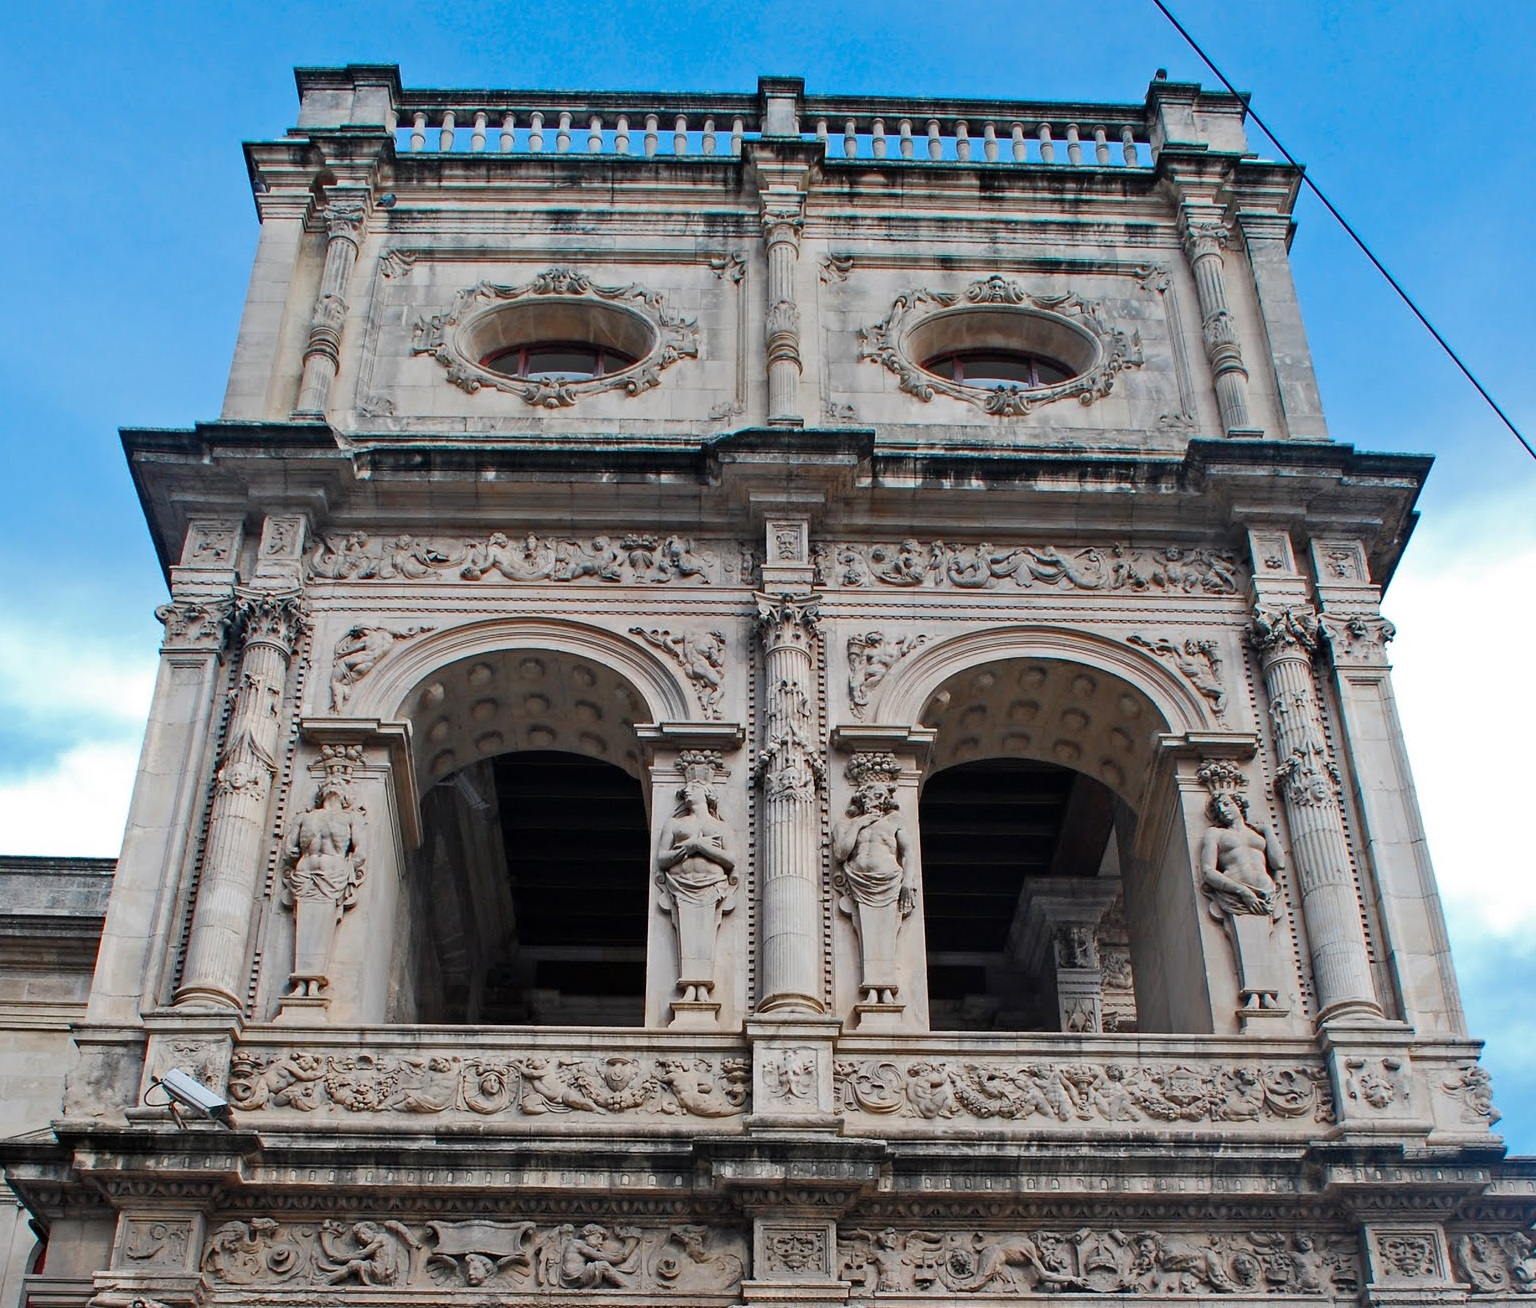arco-medio-punto: (876, 616, 1221, 793), (357, 611, 678, 758)
ojo-de-buey: (455, 287, 663, 397), (890, 298, 1108, 400)
